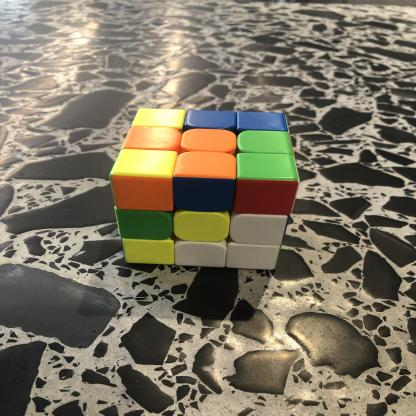UnsolvedCube: (105, 100, 301, 279)
